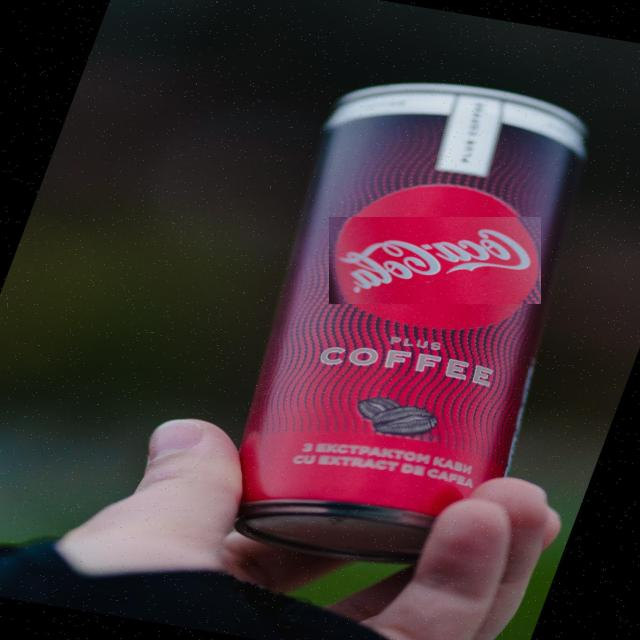coca-cola: (329, 217, 541, 304)
